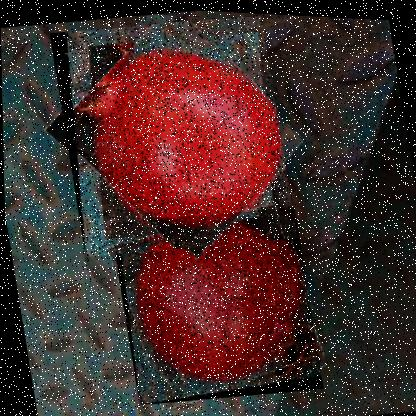pomegranate: (47, 2, 296, 265), (107, 196, 322, 410)
